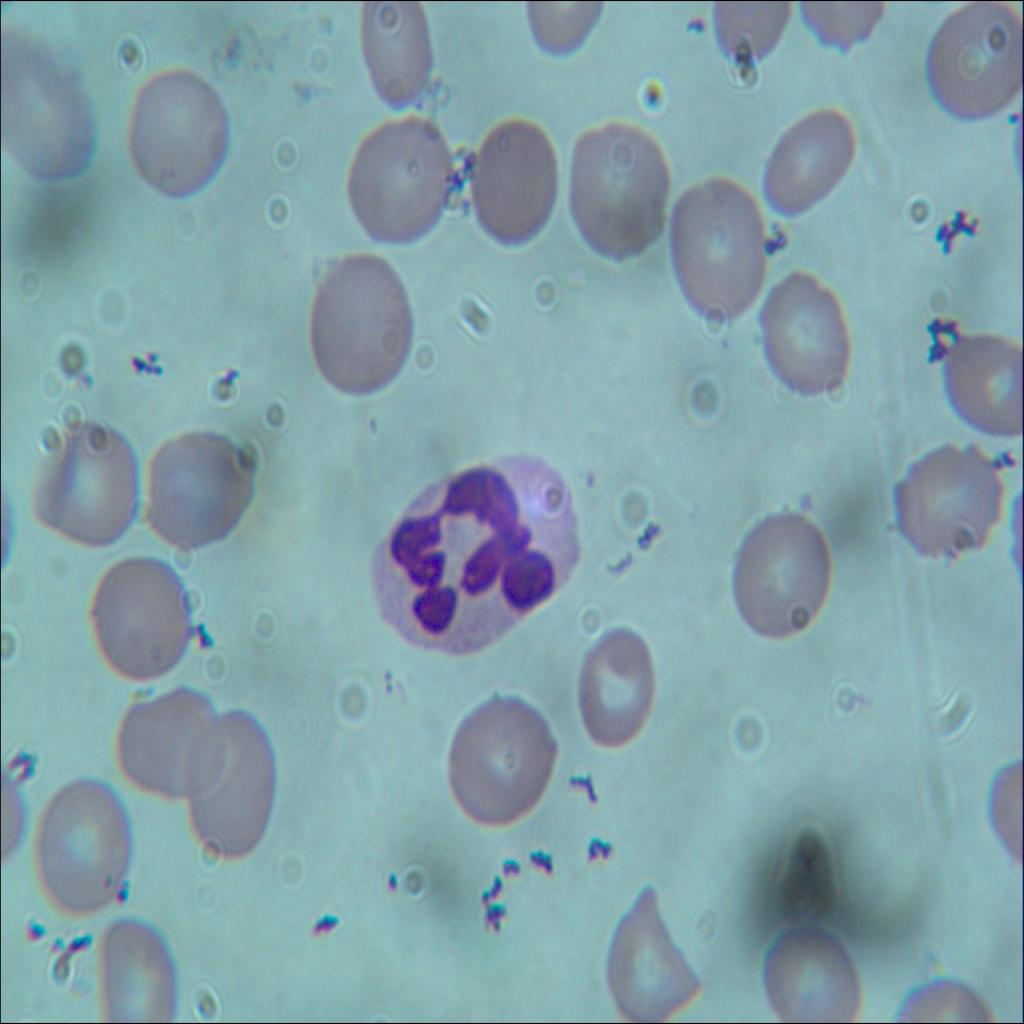Eritrosit: (440, 691, 562, 835), (719, 502, 833, 651), (32, 769, 134, 929), (309, 248, 415, 399), (563, 124, 675, 266), (124, 55, 230, 205), (596, 876, 704, 1023), (461, 112, 563, 261), (183, 704, 273, 870), (78, 554, 192, 684), (148, 422, 256, 559), (342, 114, 452, 244), (0, 48, 94, 195), (754, 269, 855, 405), (41, 412, 141, 548), (670, 174, 762, 321), (118, 682, 226, 805), (895, 442, 1001, 564), (920, 0, 1023, 118), (83, 912, 183, 1023), (576, 622, 661, 752), (762, 106, 854, 225), (759, 924, 866, 1023), (938, 331, 1023, 435), (358, 0, 428, 99)
Neutrofil: (366, 451, 584, 659)
Platelet: (998, 102, 1024, 132), (374, 867, 399, 894)
